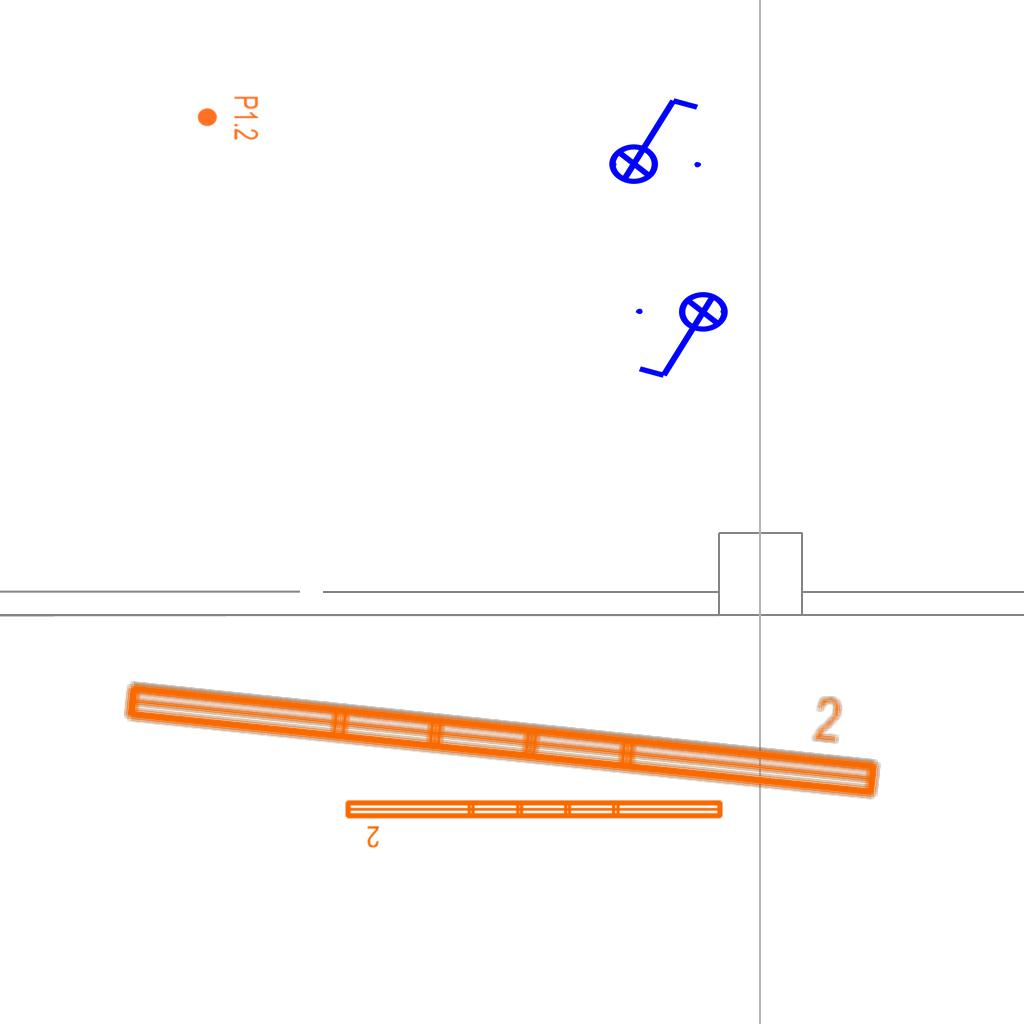Ambulanz_Pendelleuchte_LED: (113, 618, 895, 812), (341, 794, 728, 850)
Ausschalter_beleuchtet: (630, 290, 742, 386), (595, 90, 707, 186)
Downlight_LED_Einbauleuchten_Flur: (196, 95, 260, 141)
